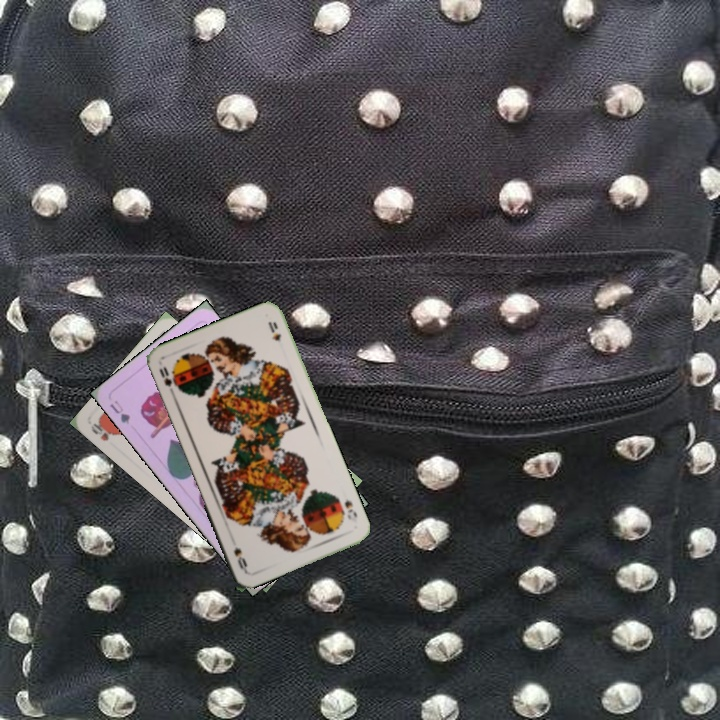GU: (105, 396, 133, 427)
HO: (87, 418, 116, 444)
SO: (155, 362, 178, 399), (340, 496, 360, 525)
